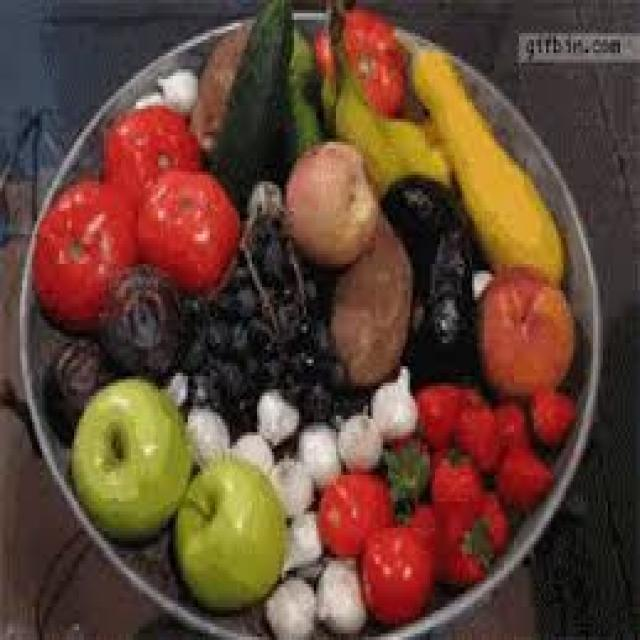organic waste: (398, 27, 563, 280), (318, 10, 449, 191), (64, 373, 188, 538), (173, 456, 282, 610), (321, 208, 413, 386), (30, 175, 138, 323), (208, 0, 286, 195), (472, 264, 573, 389), (136, 165, 235, 290), (282, 135, 376, 264), (311, 0, 408, 112), (96, 106, 208, 194), (94, 264, 180, 373), (42, 330, 116, 435), (188, 27, 250, 148), (316, 468, 396, 551), (435, 492, 504, 580), (408, 290, 474, 380), (388, 165, 457, 247), (311, 551, 366, 637), (413, 214, 472, 294), (378, 432, 437, 512), (282, 20, 316, 155), (410, 376, 474, 442), (361, 360, 415, 436), (425, 449, 479, 521), (205, 356, 255, 429), (494, 442, 549, 505), (449, 389, 492, 468), (262, 570, 311, 636), (388, 491, 440, 551), (267, 448, 314, 514), (529, 383, 573, 445), (334, 406, 378, 468), (294, 419, 339, 478), (284, 244, 324, 307), (183, 399, 230, 452), (277, 514, 319, 570), (254, 382, 296, 438), (489, 393, 526, 455), (153, 66, 195, 112), (247, 221, 282, 274), (228, 426, 274, 465), (234, 343, 282, 379), (242, 175, 277, 221), (195, 314, 235, 346), (299, 379, 329, 416), (299, 314, 331, 346), (160, 363, 188, 399), (262, 303, 299, 330), (314, 350, 343, 382), (180, 287, 208, 320), (284, 346, 314, 376), (215, 290, 247, 317), (469, 258, 487, 300), (178, 333, 203, 363), (235, 324, 267, 346), (262, 274, 289, 300), (238, 284, 260, 310), (131, 92, 163, 102)
